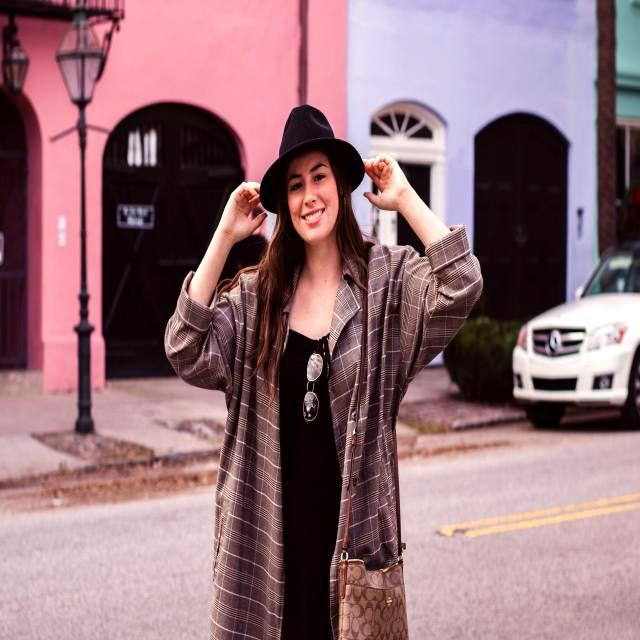no_hard_hat: (259, 104, 366, 214)
person: (165, 105, 482, 640)
